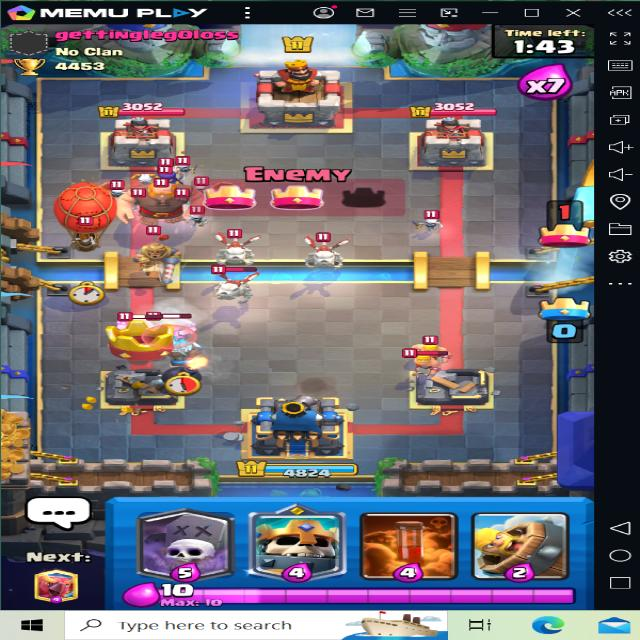balloon: (49, 176, 113, 256)
barbarian: (406, 345, 452, 375), (113, 309, 168, 334), (156, 311, 203, 335), (410, 334, 458, 356)
giant: (123, 173, 211, 223)
prince: (134, 235, 199, 280)
skeleton: (191, 177, 219, 197), (184, 209, 210, 227), (418, 210, 441, 230), (173, 156, 194, 174), (107, 180, 126, 199)
skeleton-dragon: (203, 228, 262, 264), (301, 231, 358, 268), (203, 266, 265, 297)
witch: (140, 158, 193, 198)
